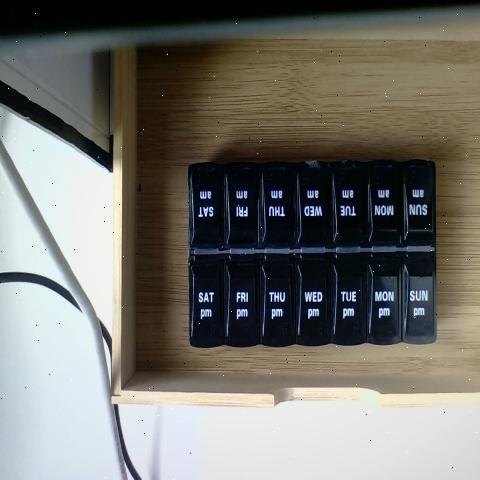FRI-am: (226, 160, 259, 248)
FRI-pm: (225, 256, 260, 347)
MON-am: (368, 163, 402, 249)
MON-pm: (368, 255, 400, 345)
SAT-am: (188, 162, 227, 249)
SAT-pm: (189, 257, 224, 348)
SUN-am: (403, 163, 435, 249)
SUN-pm: (402, 251, 436, 341)
THU-am: (261, 164, 297, 256)
THU-pm: (261, 253, 295, 344)
TUE-am: (332, 160, 366, 248)
TUE-pm: (332, 254, 366, 346)
WED-am: (297, 158, 330, 253)
WED-pm: (298, 256, 330, 345)
